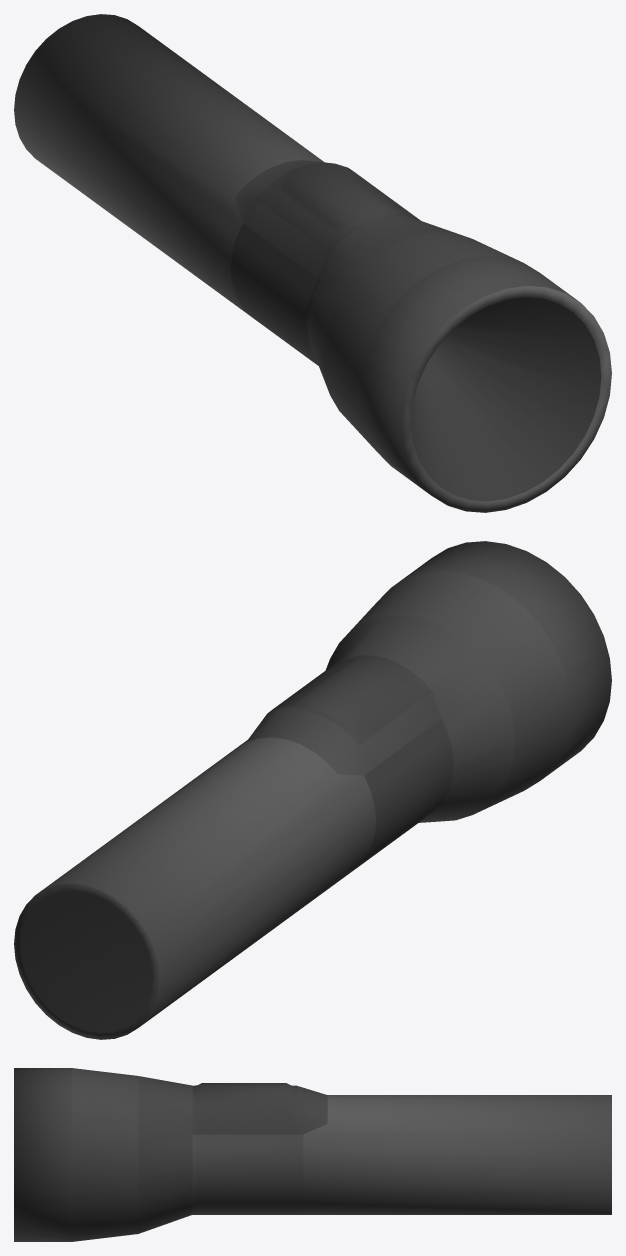
File: Flashlight.obj
The picture shows the model from 3 angles, top to bottom: view 1: azimuth 30°, elevation 25°; view 2: azimuth 150°, elevation 25°; view 3: azimuth 270°, elevation 25°; orthographic projection. The views are drawn at different scales.
Parts seen in each view (by area): view 1: Lanterna_Cylinder; view 2: Lanterna_Cylinder; view 3: Lanterna_Cylinder.
Part boxes in pixels (x1=…): Lanterna_Cylinder: x1=14, y1=14, x2=611, y2=512; Lanterna_Cylinder: x1=14, y1=541, x2=611, y2=1039; Lanterna_Cylinder: x1=14, y1=1068, x2=611, y2=1241.
Size of the model in its own units: 2.9 by 2.9 by 9.98.
1 material, 1 textured.
